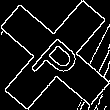P_NE: (24, 24, 86, 86)
